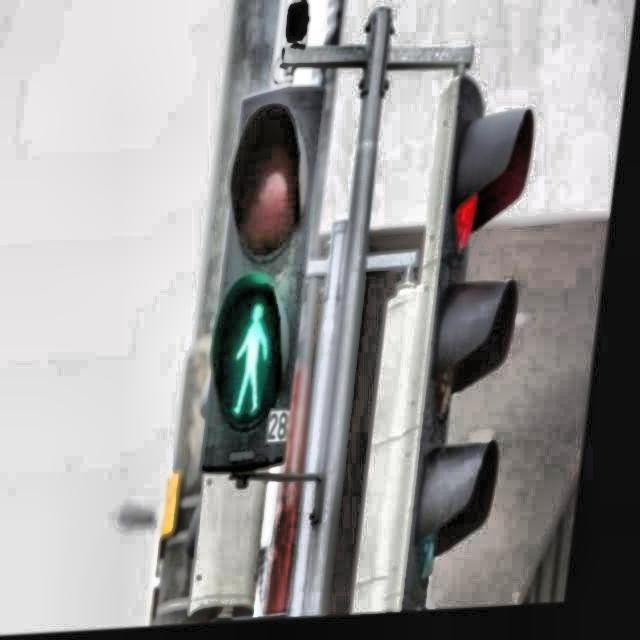semaforo pedestre: (150, 55, 420, 521)
